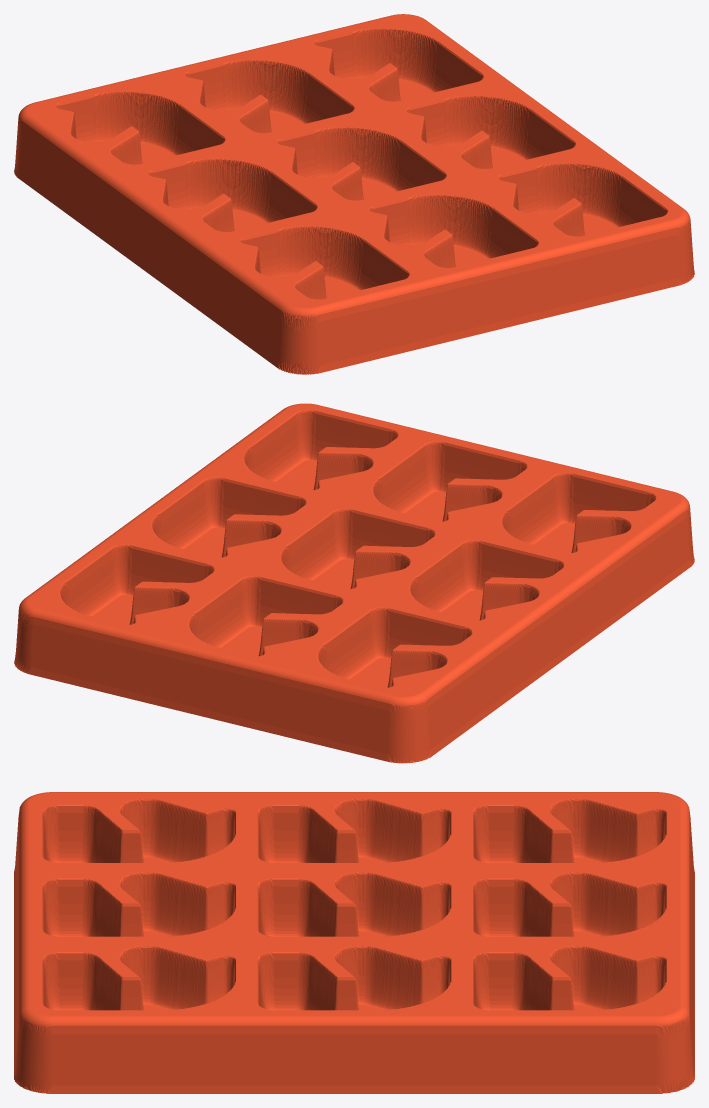
Rendered from mold.glb.
The picture shows the model from 3 angles, top to bottom: view 1: azimuth 30°, elevation 25°; view 2: azimuth 150°, elevation 25°; view 3: azimuth 270°, elevation 25°; orthographic projection. The views are drawn at different scales.
Visible parts, largest first — view 1: geometry_0; view 2: geometry_0; view 3: geometry_0.
Part boxes in pixels (x1,y1,x2,y2): geometry_0: (14, 14, 694, 374); geometry_0: (14, 403, 694, 763); geometry_0: (14, 792, 694, 1093).
Bounding box in the file's own units: 0.1307 × 0.0185 × 0.1595.
